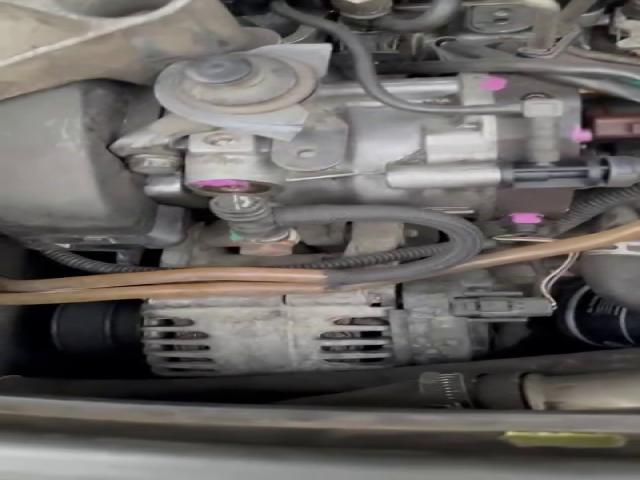alternator: (141, 286, 393, 376)
high_pressure_pump: (177, 74, 638, 235)
